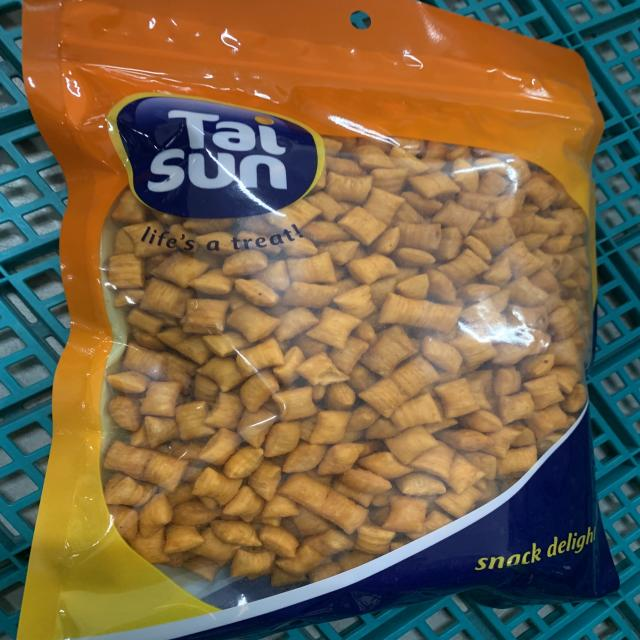object_name: (44, 7, 597, 608)
